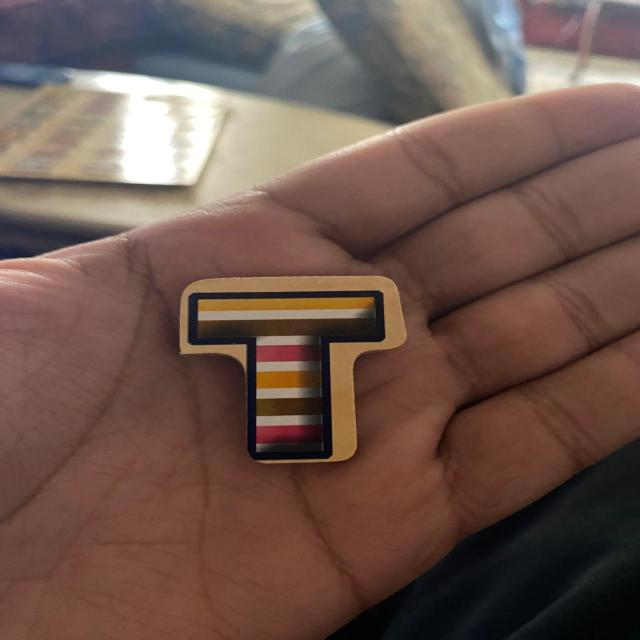T: (180, 276, 405, 463)
